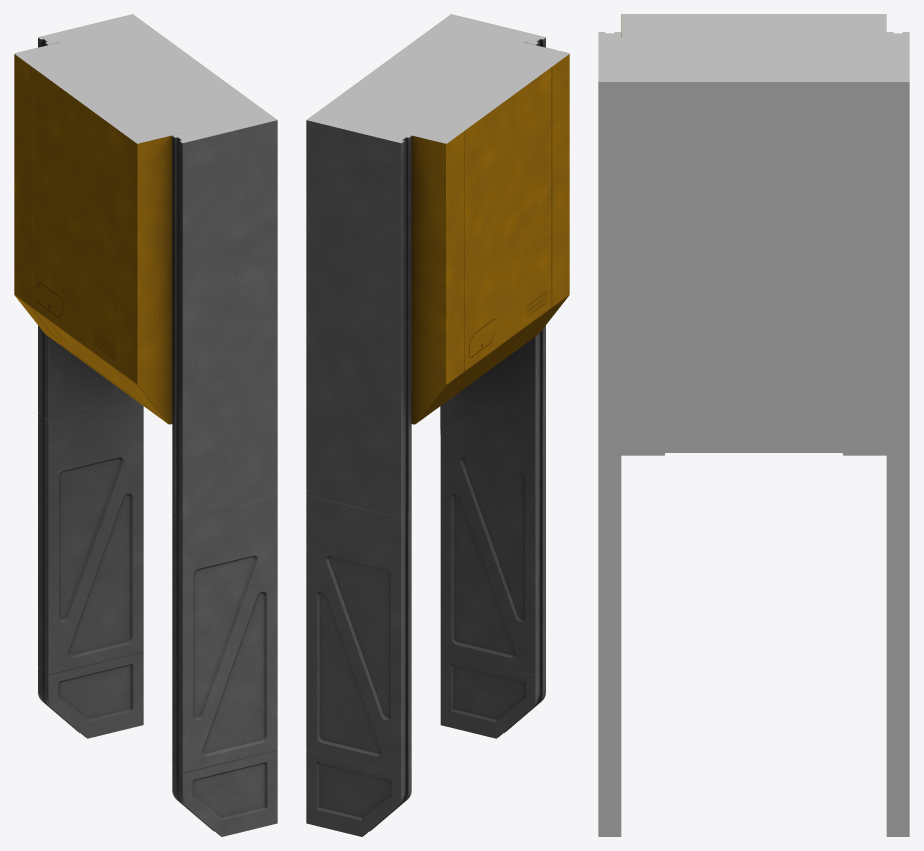
Rendered from SM_CorridorDoor01.fbx.
3 renders of one model, left to right at view 1: azimuth 30°, elevation 25°; view 2: azimuth 150°, elevation 25°; view 3: azimuth 270°, elevation 25°, orthographic. The views are drawn at different scales.
Parts seen in each view (by area): view 1: SM_CorridorDoor01_LOD0; view 2: SM_CorridorDoor01_LOD0; view 3: SM_CorridorDoor01_LOD0.
Part boxes in pixels (left/top/right/bottom): SM_CorridorDoor01_LOD0: left=14, top=14, right=277, bottom=836; SM_CorridorDoor01_LOD0: left=306, top=14, right=569, bottom=836; SM_CorridorDoor01_LOD0: left=598, top=14, right=909, bottom=836.
Bounding box in the file's own units: 87.84 × 170 × 455.
2 materials, 1 textured.
